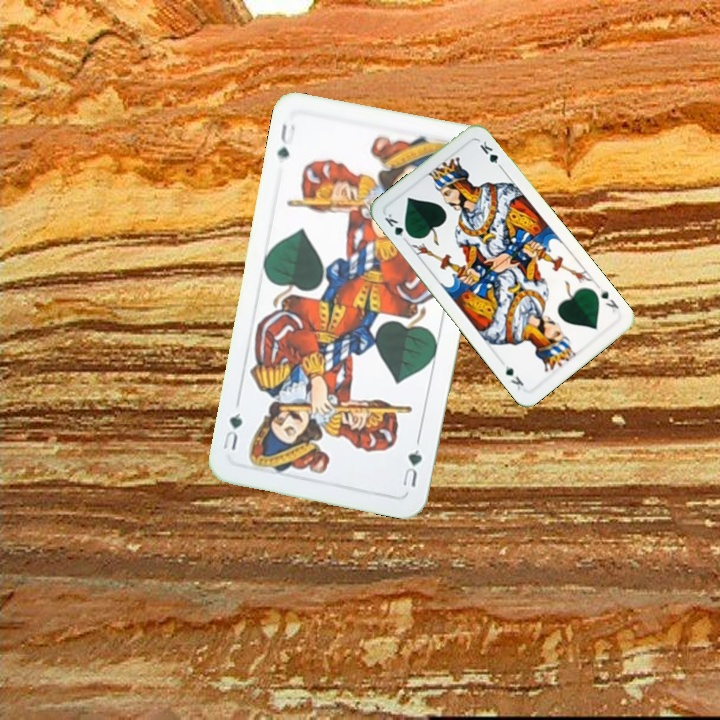GK: (380, 209, 414, 245), (593, 282, 621, 315)
GU: (398, 445, 425, 490), (273, 119, 298, 161)
